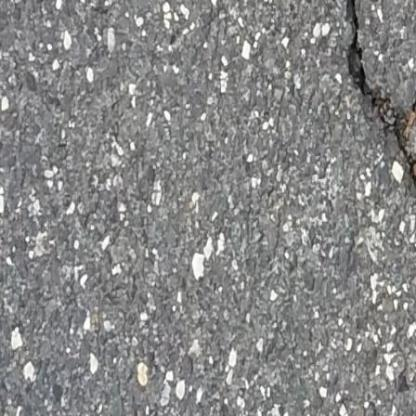Cracks: (324, 0, 416, 204)
